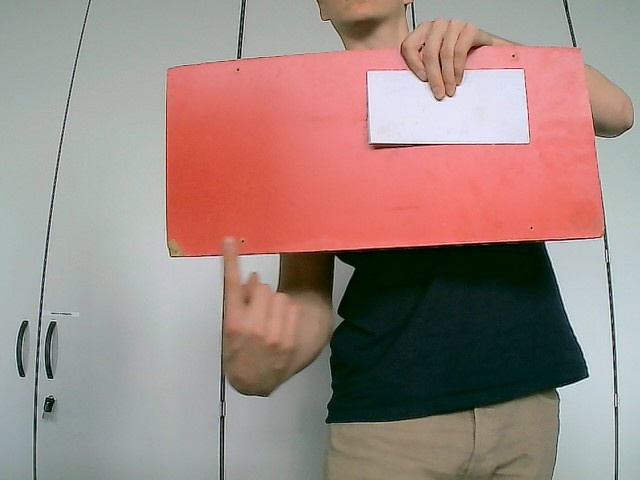no_gesture: (397, 18, 504, 106)
up: (219, 235, 302, 398)
